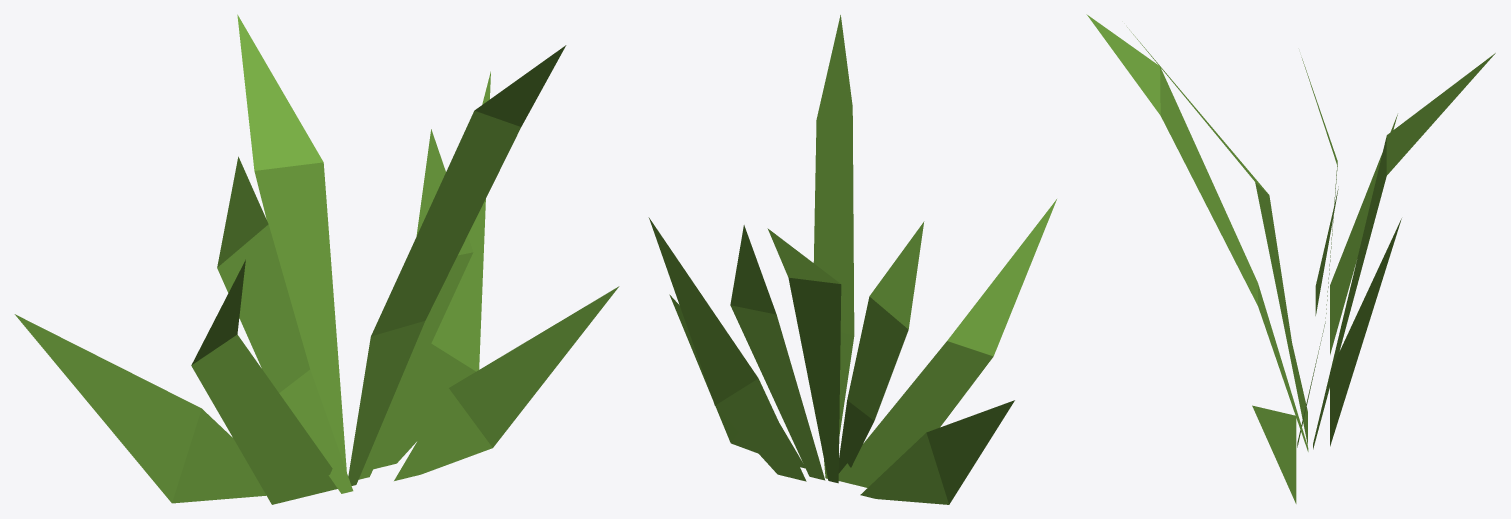
File: grass_interactable.fbx
3 views of the same model, side by side, from view 1: azimuth 30°, elevation 25°; view 2: azimuth 150°, elevation 25°; view 3: azimuth 270°, elevation 25° (orthographic). The views are drawn at different scales.
Parts seen in each view (by area): view 1: grass_interactable; view 2: grass_interactable; view 3: grass_interactable.
Boxes of the visible parts, left/top/right/bottom form: grass_interactable: left=14, top=14, right=619, bottom=504; grass_interactable: left=648, top=15, right=1056, bottom=504; grass_interactable: left=1086, top=14, right=1495, bottom=503.
Bounding box in the file's own units: 348 × 314 × 242.
